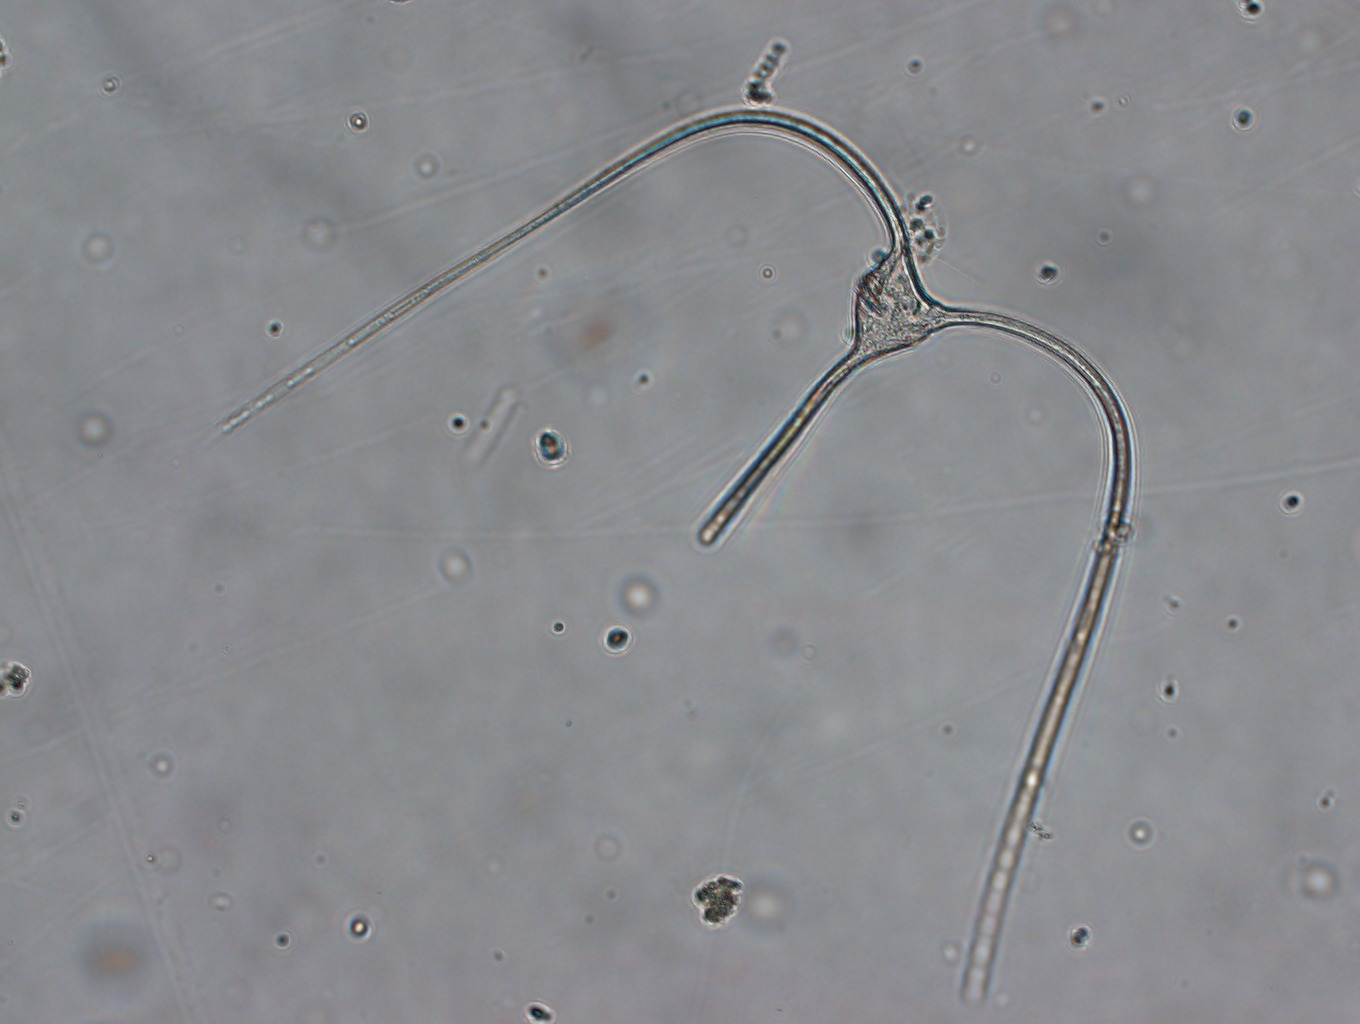ceratium trichoceros: (209, 94, 1145, 1009)
